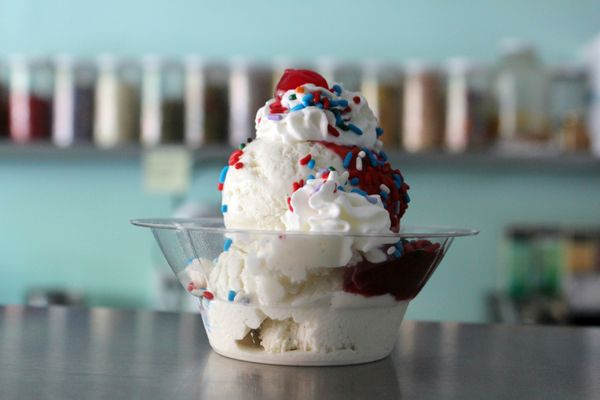curry: (16, 316, 599, 395)
